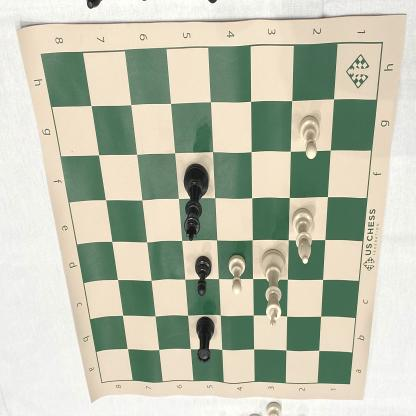black-king: (180, 159, 211, 243)
black-pawn: (194, 252, 213, 296)
black-rook: (194, 314, 217, 365)
white-bishop: (290, 207, 317, 266)
white-king: (260, 246, 285, 328)
white-pawn: (298, 113, 320, 162), (227, 252, 247, 298)
